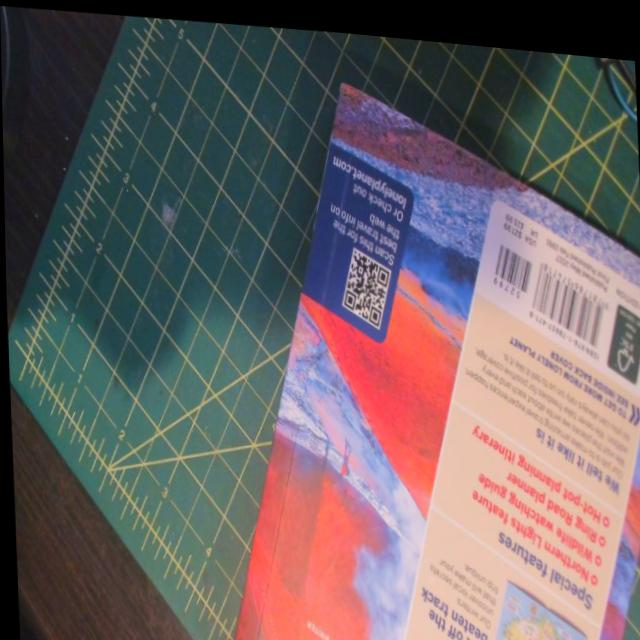QR_CODE: (330, 227, 406, 333)
